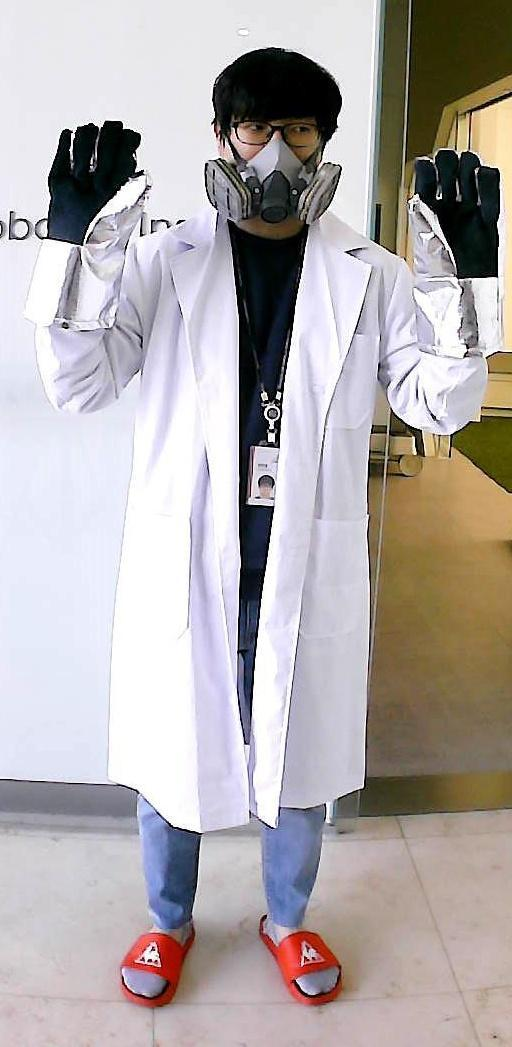lab_coat: (113, 242, 400, 803)
